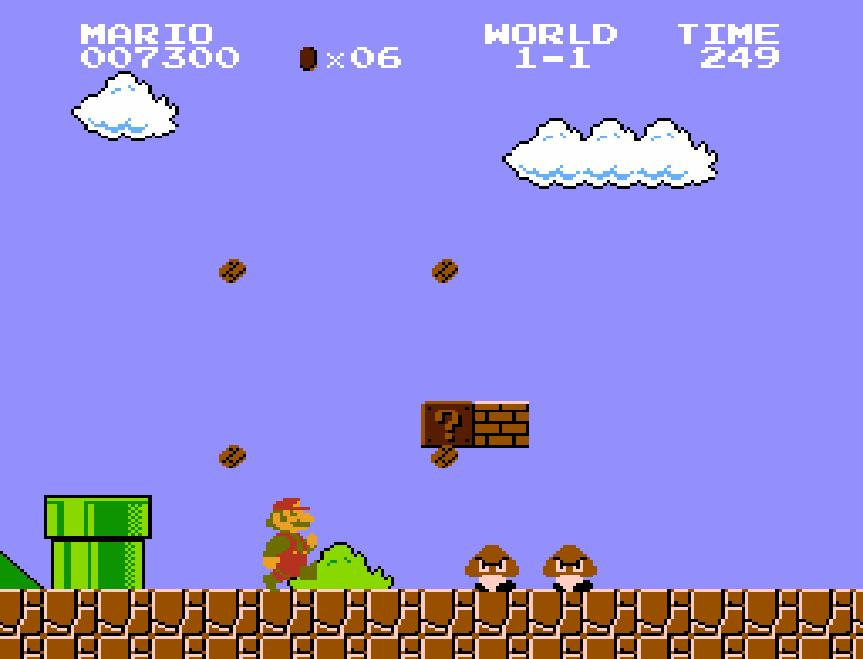big_mario: (260, 496, 318, 594)
